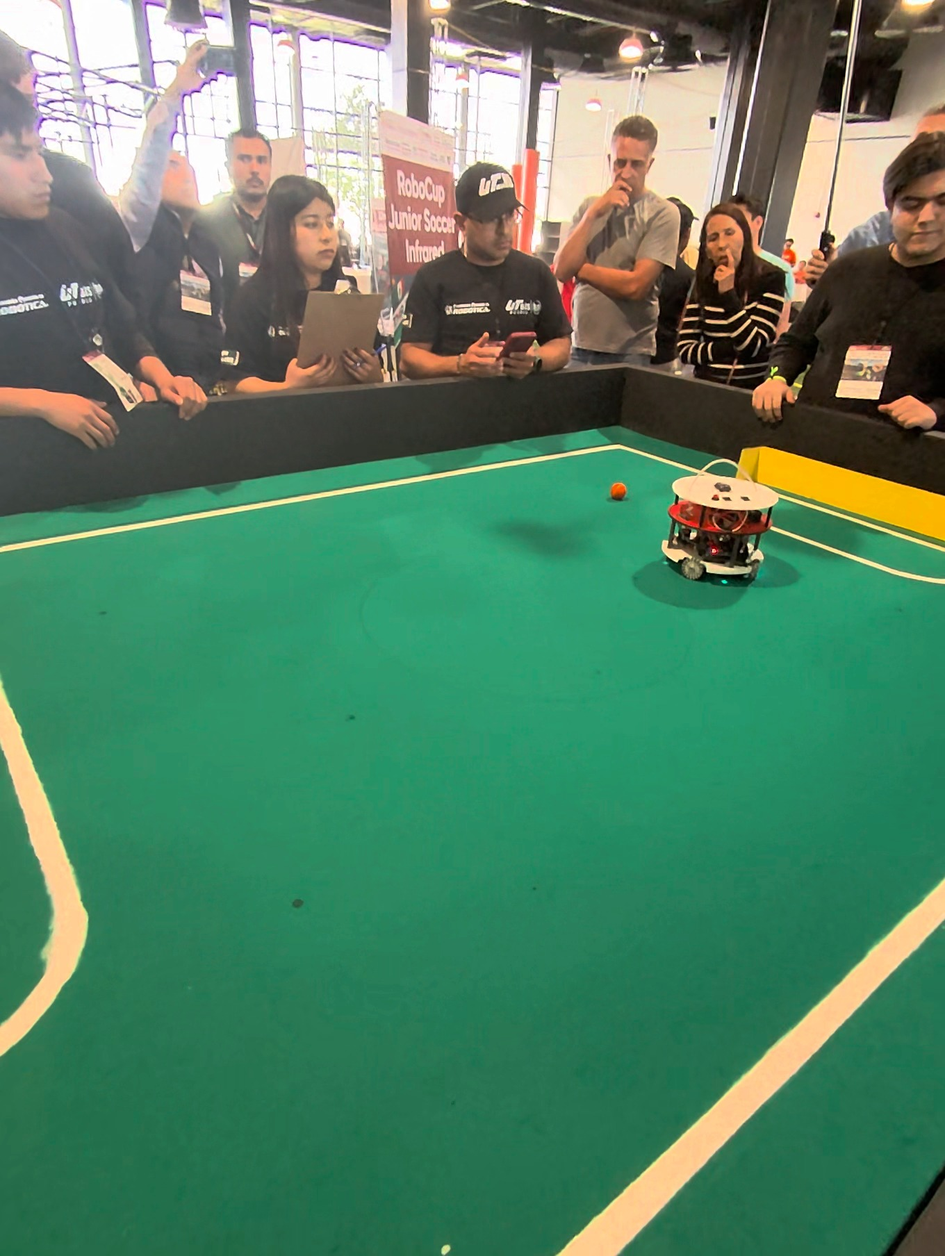Robot: (660, 456, 775, 604)
pelota: (610, 479, 628, 500)
